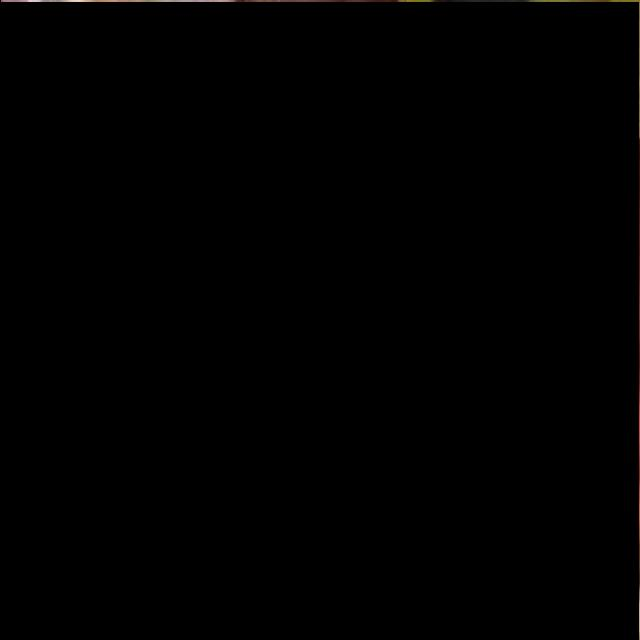fire: (0, 2, 638, 640)
